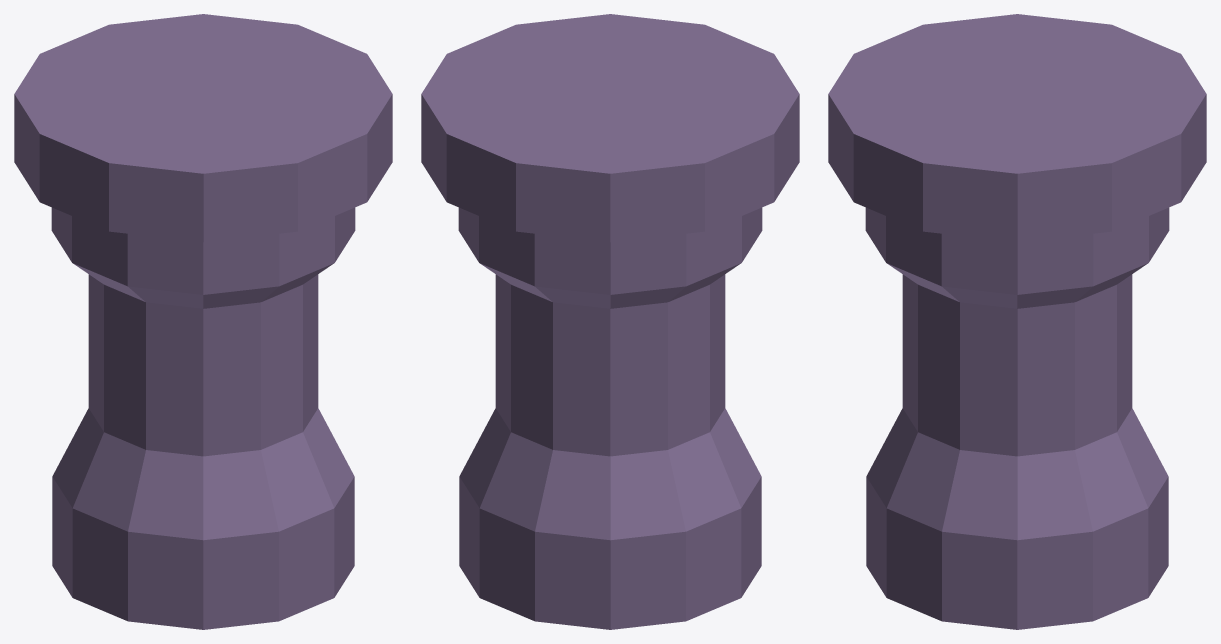
The model's file is column.obj.
3 renders of one model, left to right at view 1: azimuth 30°, elevation 25°; view 2: azimuth 150°, elevation 25°; view 3: azimuth 270°, elevation 25°, orthographic.
Size of the model in its own units: 0.7258 by 1 by 0.7258.
